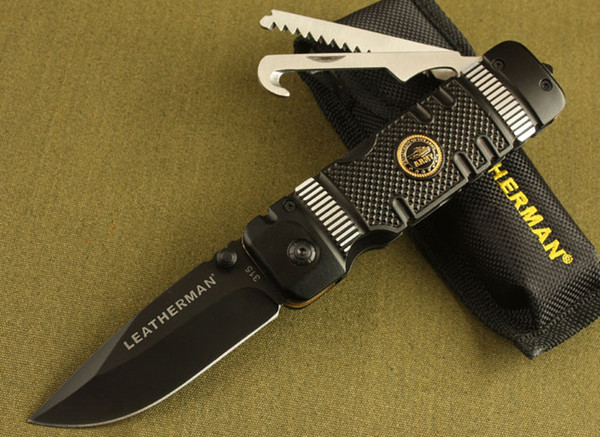knife: (18, 232, 289, 431)
